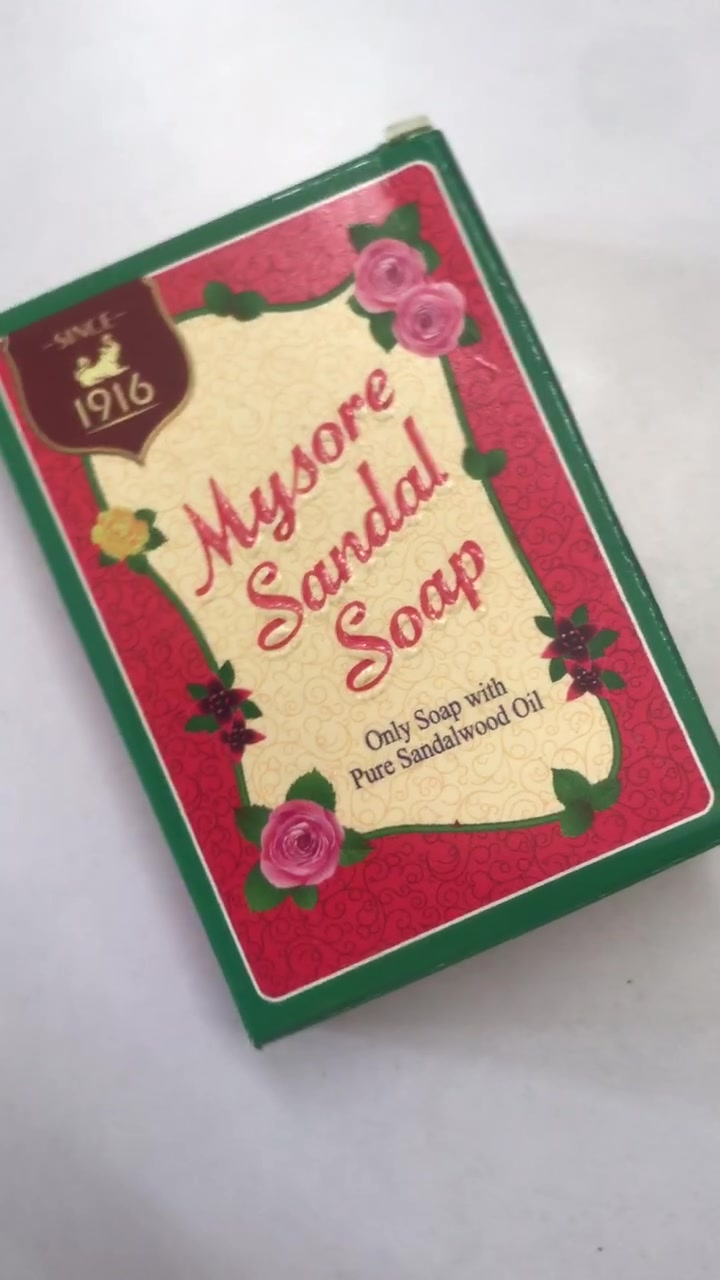mysore sandal soap: (9, 146, 720, 1048)
